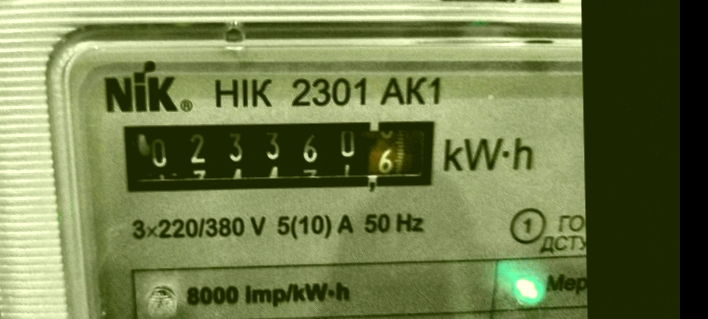0: (147, 133, 168, 167), (338, 126, 355, 157)
2: (185, 130, 208, 164)
3: (223, 129, 244, 161), (262, 127, 281, 159)
6: (298, 129, 318, 162), (373, 143, 395, 172)
screen: (104, 101, 448, 206)
